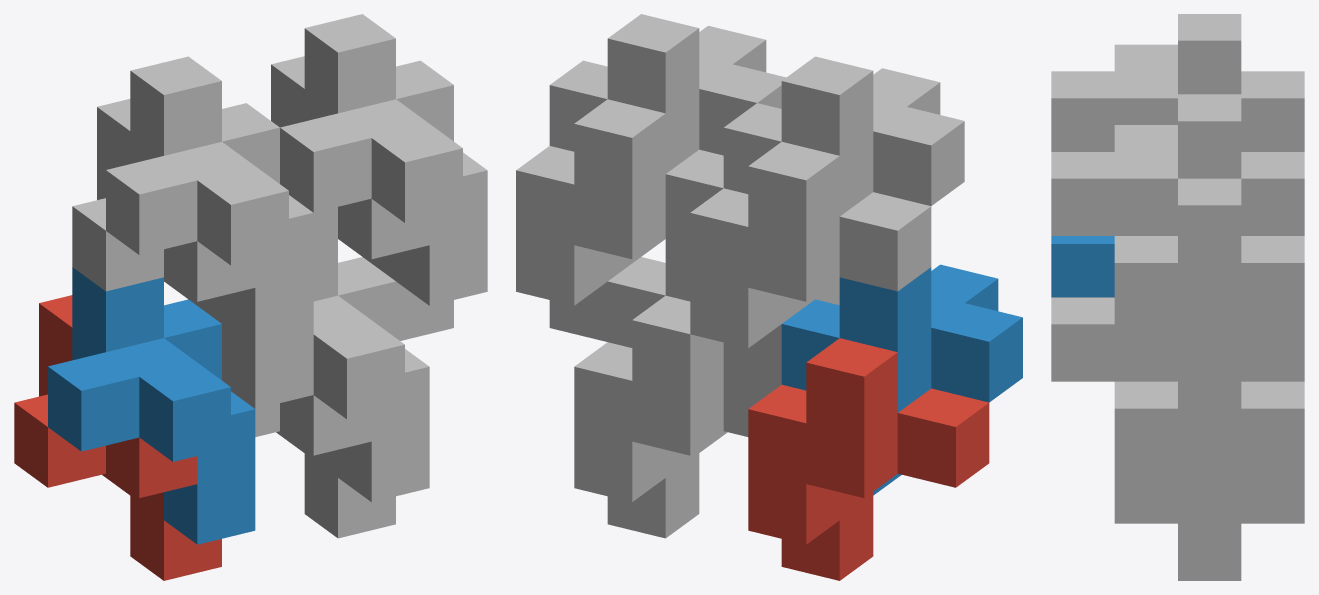
The model's file is tiling.obj.
The picture shows the model from 3 angles, left to right: view 1: azimuth 30°, elevation 25°; view 2: azimuth 150°, elevation 25°; view 3: azimuth 270°, elevation 25°; orthographic projection. The views are drawn at different scales.
Visible parts, largest first — view 1: copy_1_domain_4, copy_1_domain_8, copy_1_domain_2, copy_1_domain_6, copy_1_domain_1, copy_1_domain_3, copy_1_domain_7, copy_1_domain_5; view 2: copy_1_domain_1, copy_1_domain_3, copy_1_domain_7, copy_1_domain_5, copy_1_domain_4, copy_1_domain_2, copy_1_domain_8, copy_1_domain_6; view 3: copy_1_domain_8, copy_1_domain_7, copy_1_domain_6, copy_1_domain_5, copy_1_domain_4, copy_1_domain_3, copy_1_domain_2.
Boxes of the visible parts, x1,y1,x2,y2 form: copy_1_domain_4: (106, 56, 313, 348); copy_1_domain_8: (280, 14, 487, 305); copy_1_domain_2: (48, 267, 255, 544); copy_1_domain_6: (222, 235, 429, 502); copy_1_domain_1: (14, 295, 221, 580); copy_1_domain_3: (72, 99, 255, 323); copy_1_domain_7: (271, 56, 453, 340); copy_1_domain_5: (255, 395, 395, 538); copy_1_domain_1: (748, 338, 989, 580); copy_1_domain_3: (690, 142, 931, 384); copy_1_domain_7: (516, 99, 723, 341); copy_1_domain_5: (574, 295, 781, 538); copy_1_domain_4: (723, 56, 964, 298); copy_1_domain_2: (781, 264, 1022, 495); copy_1_domain_8: (549, 14, 786, 256); copy_1_domain_6: (607, 235, 839, 452); copy_1_domain_8: (1051, 94, 1241, 377); copy_1_domain_7: (1178, 152, 1304, 435); copy_1_domain_6: (1051, 297, 1241, 523); copy_1_domain_5: (1178, 378, 1304, 580); copy_1_domain_4: (1051, 14, 1241, 151); copy_1_domain_3: (1241, 71, 1304, 151); copy_1_domain_2: (1051, 236, 1114, 297).
Size of the model in its own units: 7 by 8 by 4.
